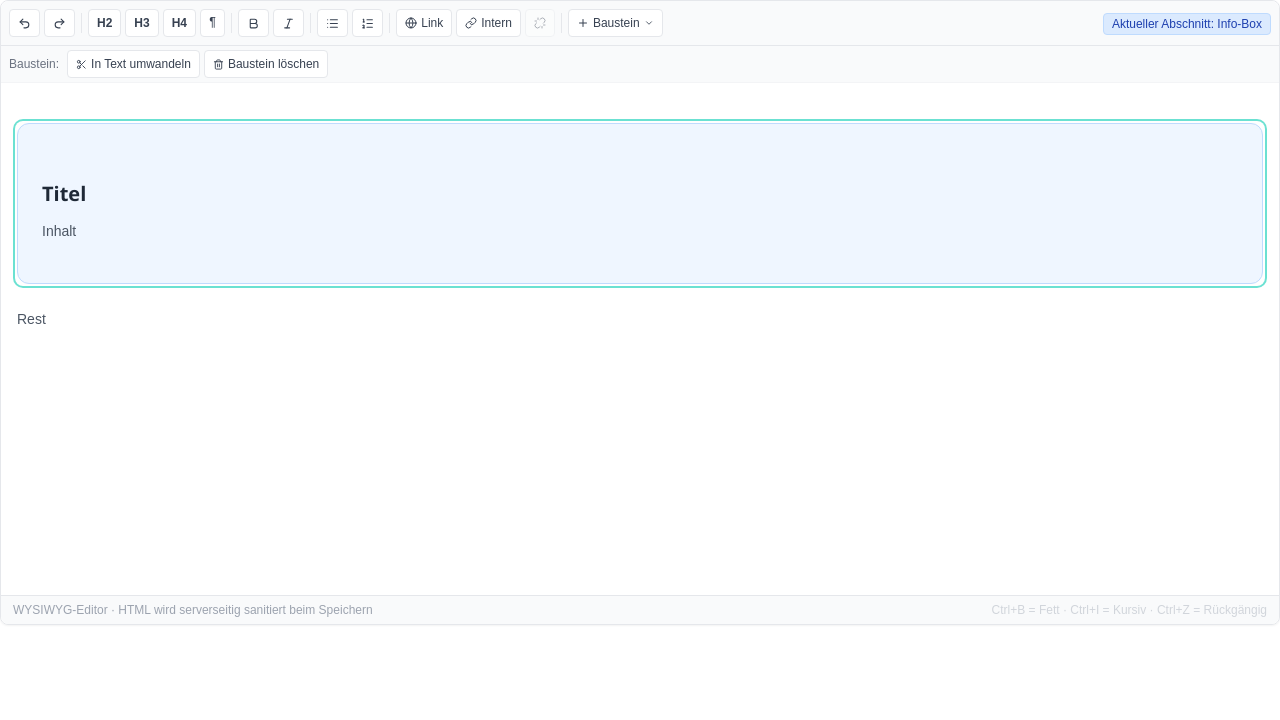
Scenario: 4/5 – Bestätigen führt genau einmal aus › Baustein löschen entfernt nur den erfassten Baustein
Press the mouse on the button with test id "btn-delete-block" at (266, 64), box [204, 50, 328, 78]
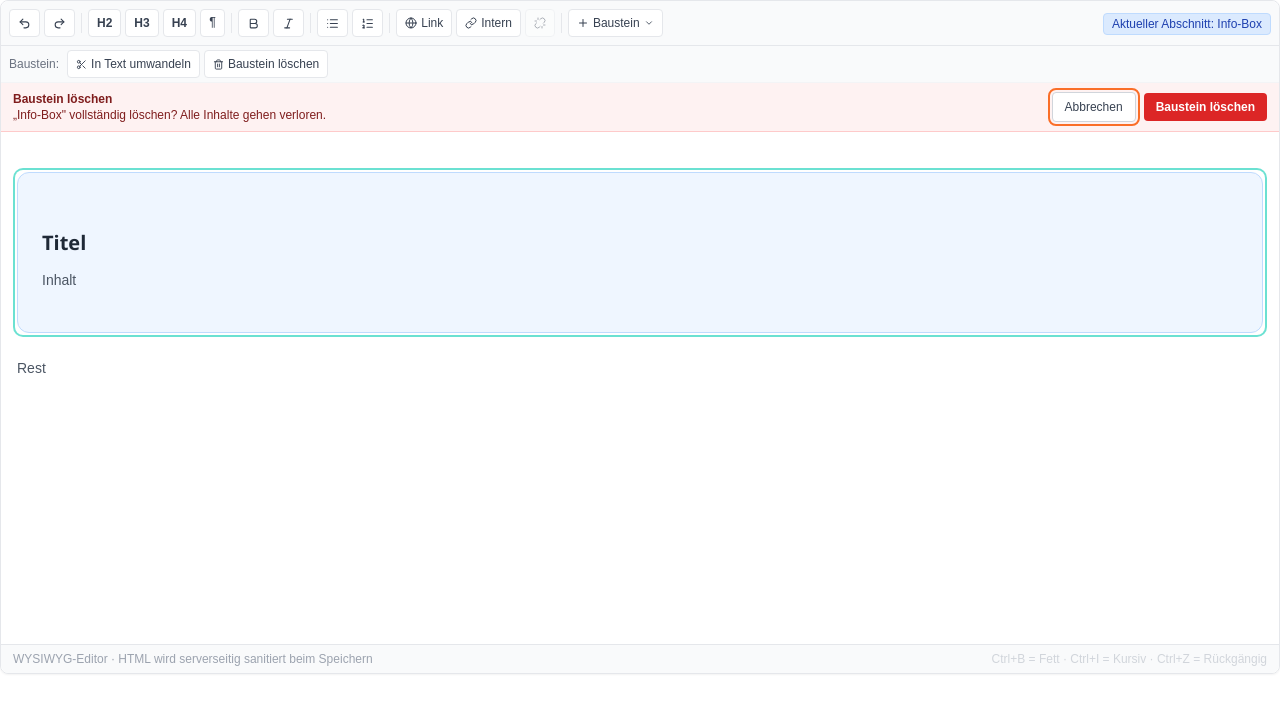
Click the button with test id "block-confirm-accept" at (1205, 107), box [1144, 93, 1267, 121]
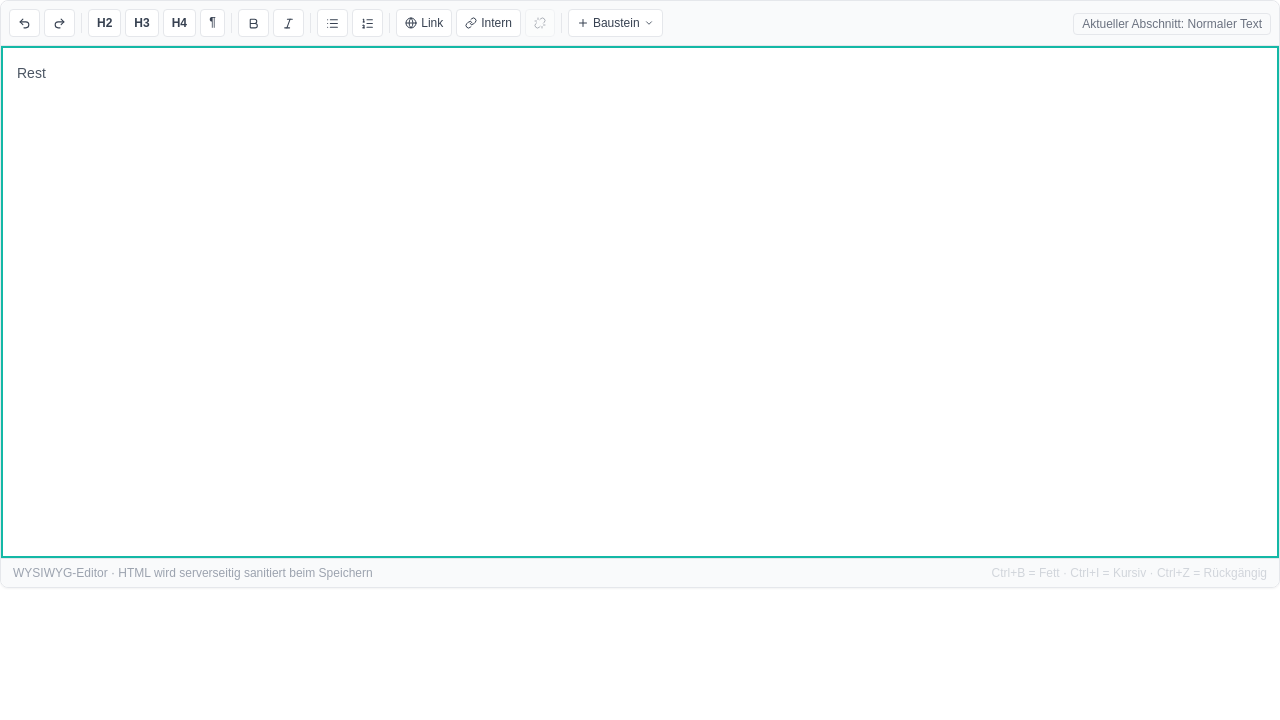
Expected: the text box with id "rest" is shown, [17, 65, 46, 81]
Expected: the text box with class "info-box" is gone
